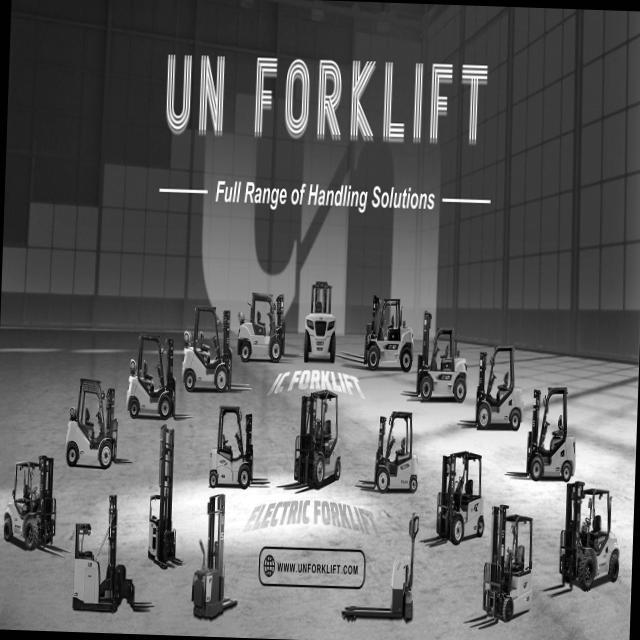forklift: (550, 481, 618, 599), (1, 447, 60, 560), (486, 498, 537, 628), (434, 434, 488, 552), (64, 368, 121, 474), (414, 306, 469, 412), (521, 384, 579, 482), (179, 300, 236, 398), (294, 385, 344, 492), (203, 403, 260, 496), (470, 337, 522, 433), (358, 289, 416, 375), (124, 330, 178, 418), (236, 283, 289, 365), (298, 268, 339, 369), (372, 406, 414, 500)
